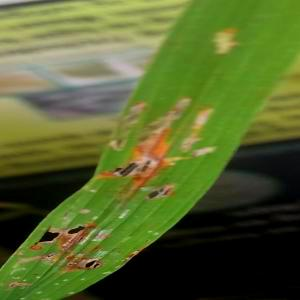1 RiceBlast: (29, 210, 99, 257), (103, 94, 155, 155), (53, 247, 124, 284), (108, 154, 174, 187), (137, 174, 182, 209)
